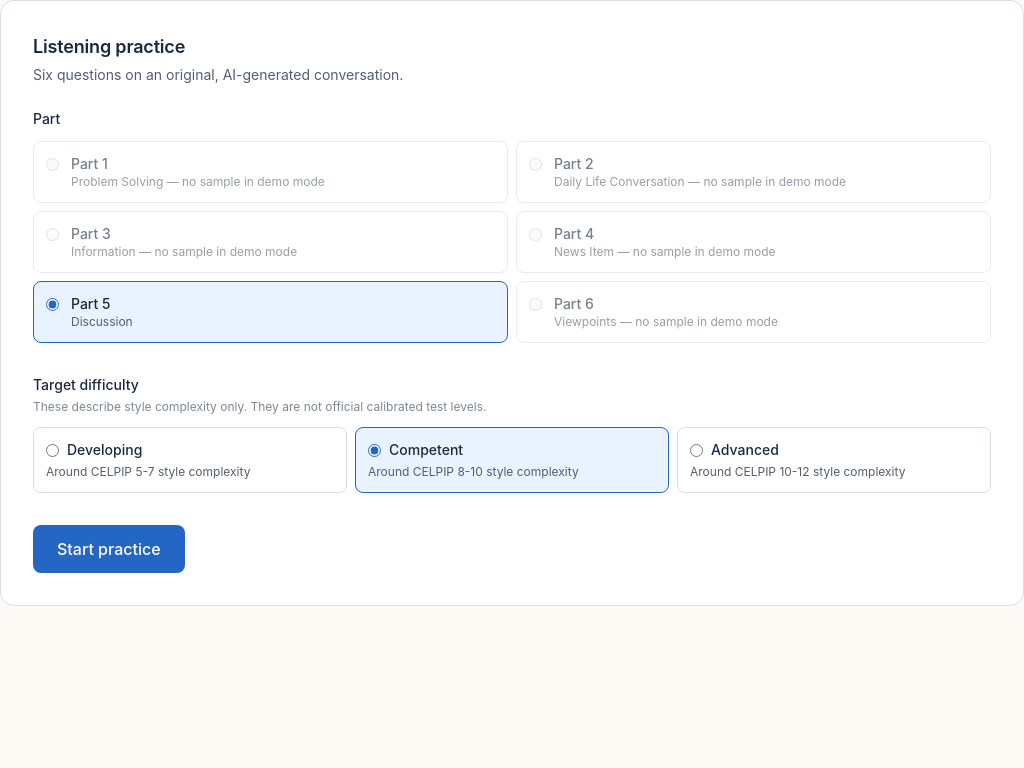
Test: ListeningPage › does not offer a retry when the daily limit is reached
Click the button "Start practice".
click(109, 549)  # box [33,525,185,573]
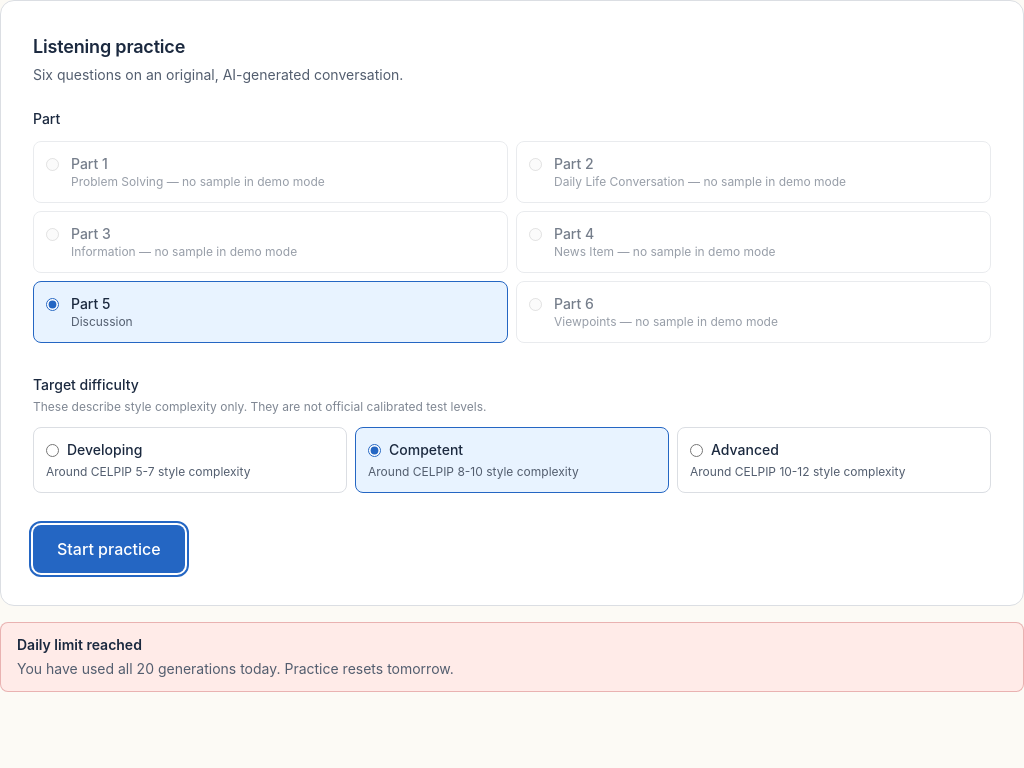
Expected: the text "Daily limit reached" is shown, [17,636,142,653]
